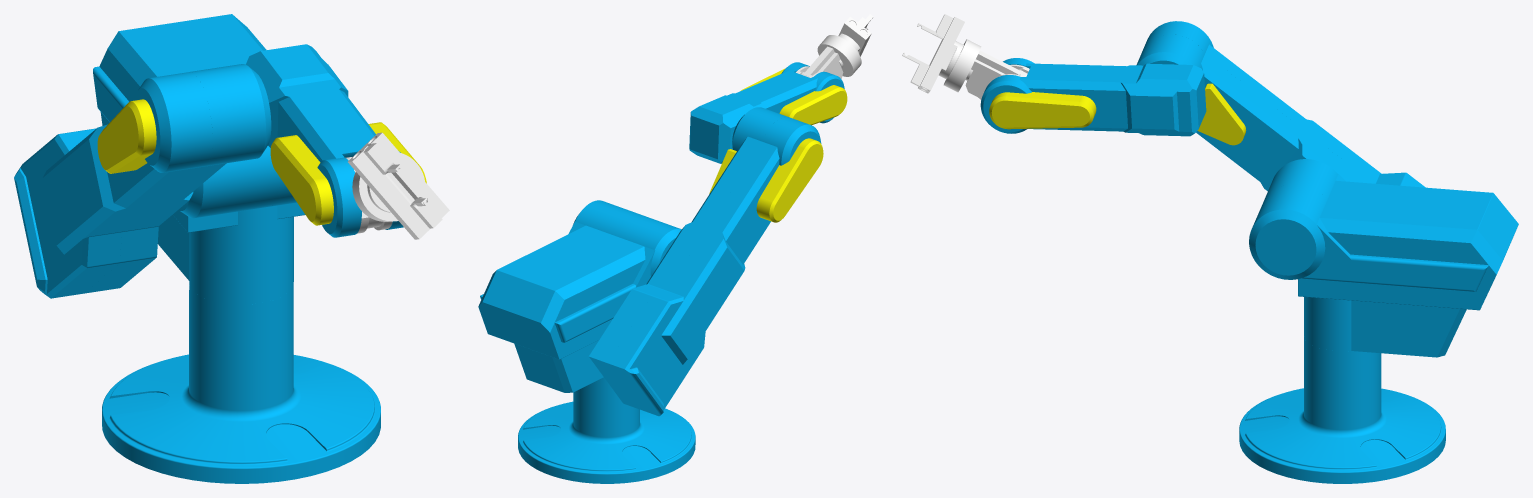
The model's file is Arm.fbx.
The picture shows the model from 3 angles, left to right: view 1: azimuth 30°, elevation 25°; view 2: azimuth 150°, elevation 25°; view 3: azimuth 270°, elevation 25°; orthographic projection. The views are drawn at different scales.
Parts seen in each view (by area): view 1: Pieza 1-1, Pieza 3 - frontal-2, Pieza 2 - parte 2-1, Pieza 4 - posterior-1, Pieza 6-2, Pieza 5-2, Pieza 7-2, Pieza 7-1; view 2: Pieza 3 - frontal-2, Pieza 2 - parte 2-1, Pieza 1-1, Pieza 4 - posterior-1, Pieza 5-2, Pieza 6-2; view 3: Pieza 2 - parte 2-1, Pieza 1-1, Pieza 4 - posterior-1, Pieza 3 - frontal-2, Pieza 5-2, Pieza 6-2.
Part boxes in pixels (x1=…): Pieza 1-1: x1=102, y1=284, x2=380, y2=483; Pieza 3 - frontal-2: x1=14, y1=64, x2=271, y2=298; Pieza 2 - parte 2-1: x1=93, y1=14, x2=305, y2=304; Pieza 4 - posterior-1: x1=246, y1=44, x2=426, y2=237; Pieza 6-2: x1=348, y1=132, x2=449, y2=239; Pieza 5-2: x1=345, y1=153, x2=424, y2=233; Pieza 7-2: x1=363, y1=143, x2=402, y2=174; Pieza 7-1: x1=410, y1=197, x2=442, y2=228; Pieza 3 - frontal-2: x1=589, y1=107, x2=823, y2=416; Pieza 2 - parte 2-1: x1=478, y1=200, x2=681, y2=392; Pieza 1-1: x1=518, y1=377, x2=695, y2=483; Pieza 4 - posterior-1: x1=689, y1=62, x2=847, y2=163; Pieza 5-2: x1=796, y1=35, x2=861, y2=78; Pieza 6-2: x1=838, y1=16, x2=871, y2=56; Pieza 2 - parte 2-1: x1=1249, y1=159, x2=1518, y2=357; Pieza 1-1: x1=1239, y1=337, x2=1445, y2=483; Pieza 4 - posterior-1: x1=980, y1=58, x2=1206, y2=136; Pieza 3 - frontal-2: x1=1136, y1=21, x2=1425, y2=191; Pieza 5-2: x1=944, y1=39, x2=1029, y2=99; Pieza 6-2: x1=918, y1=17, x2=964, y2=93.
Bounding box in the file's own units: 45.34 × 64.92 × 95.49.
